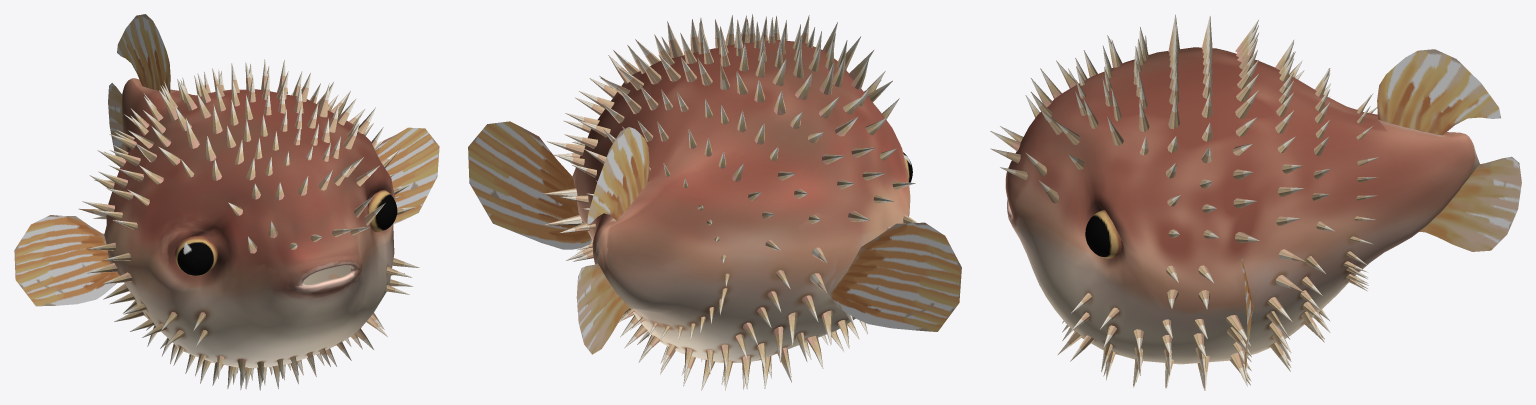
The model's file is PufferFish 1.fbx.
3 views of the same model, side by side, from view 1: azimuth 30°, elevation 25°; view 2: azimuth 150°, elevation 25°; view 3: azimuth 270°, elevation 25° (orthographic). The views are drawn at different scales.
Visible parts, largest first — view 1: Cube; view 2: Cube; view 3: Cube.
Boxes of the visible parts, left/top/right/bottom form: Cube: left=14, top=14, right=439, bottom=390; Cube: left=468, top=14, right=961, bottom=390; Cube: left=990, top=14, right=1521, bottom=390.
Size of the model in its own units: 155 by 102 by 146.
Materials: 1 (1 with a texture image).
